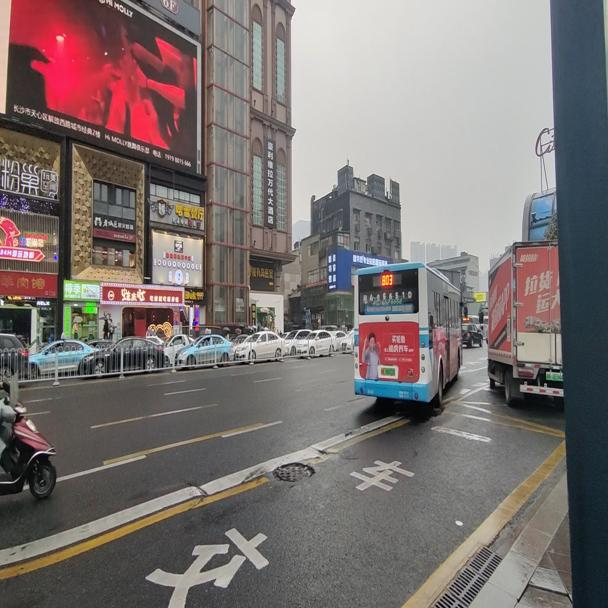bus: (352, 260, 467, 410)
screen: (380, 274, 392, 285)
